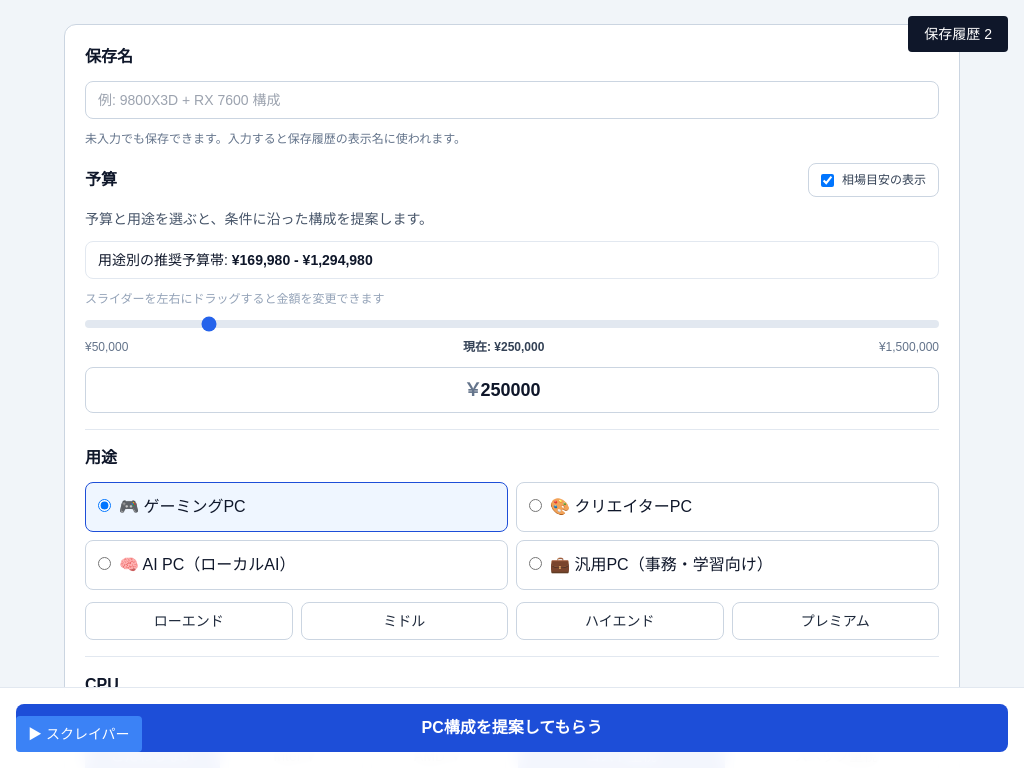
Test: App history panel › bulk-deletes all history items and shows toast
Click the button "保存履歴 2" at (958, 34), box [908,16,1008,52]
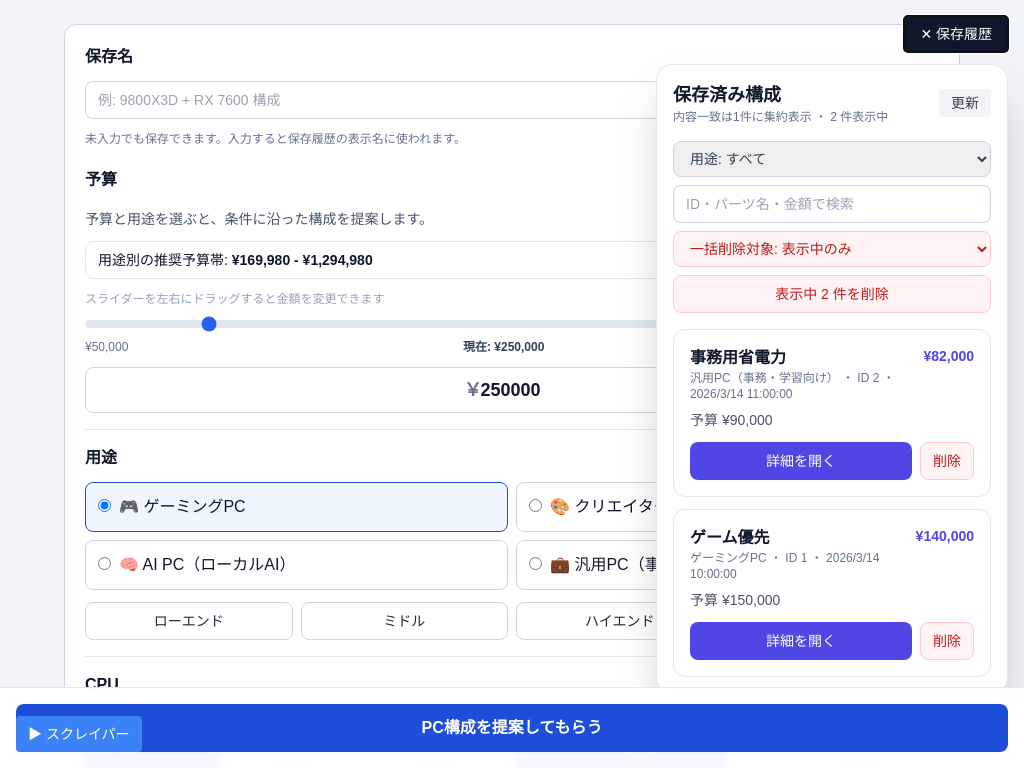
Select "一括削除対象: 全件" in the 2nd dropdown at (832, 249), box [673,231,991,267]
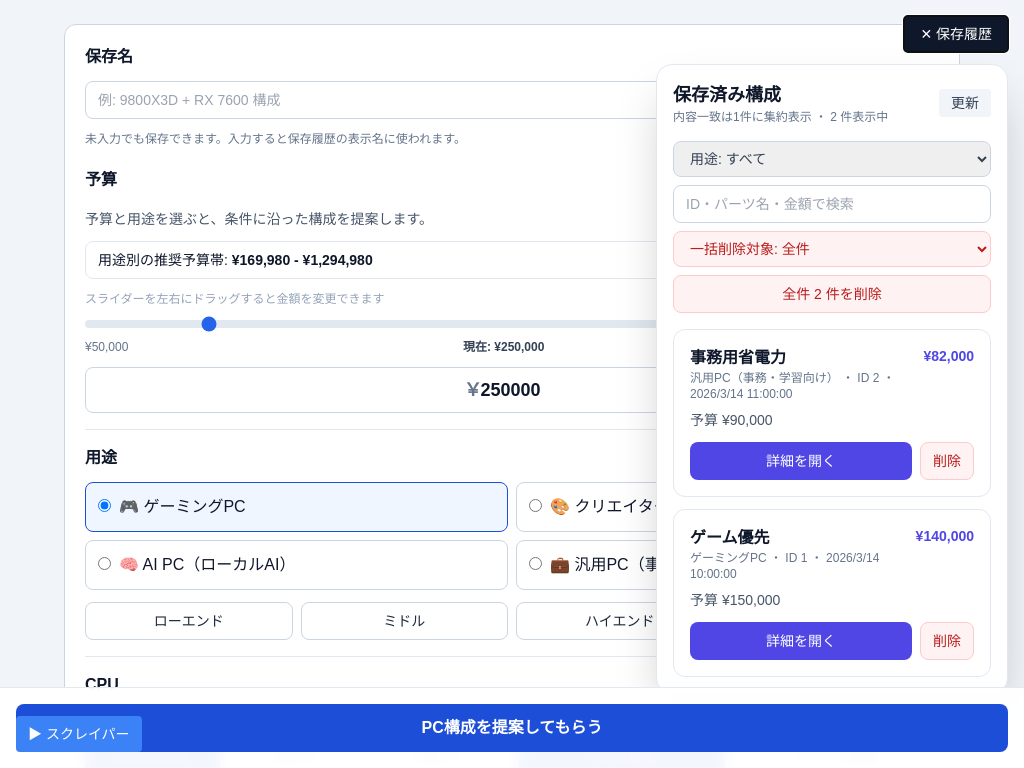
Click the button "全件 2 件を削除" at (832, 294), box [673,275,991,313]
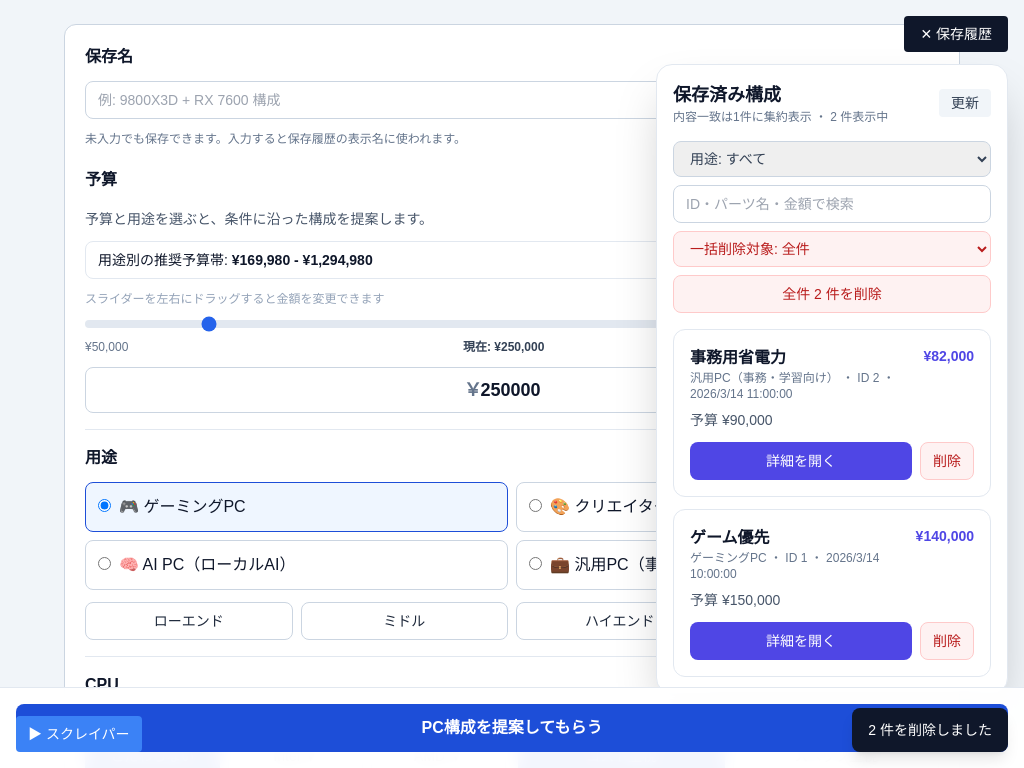
Now the text "2 件を削除しました" is shown, box [852,708,1008,752]
